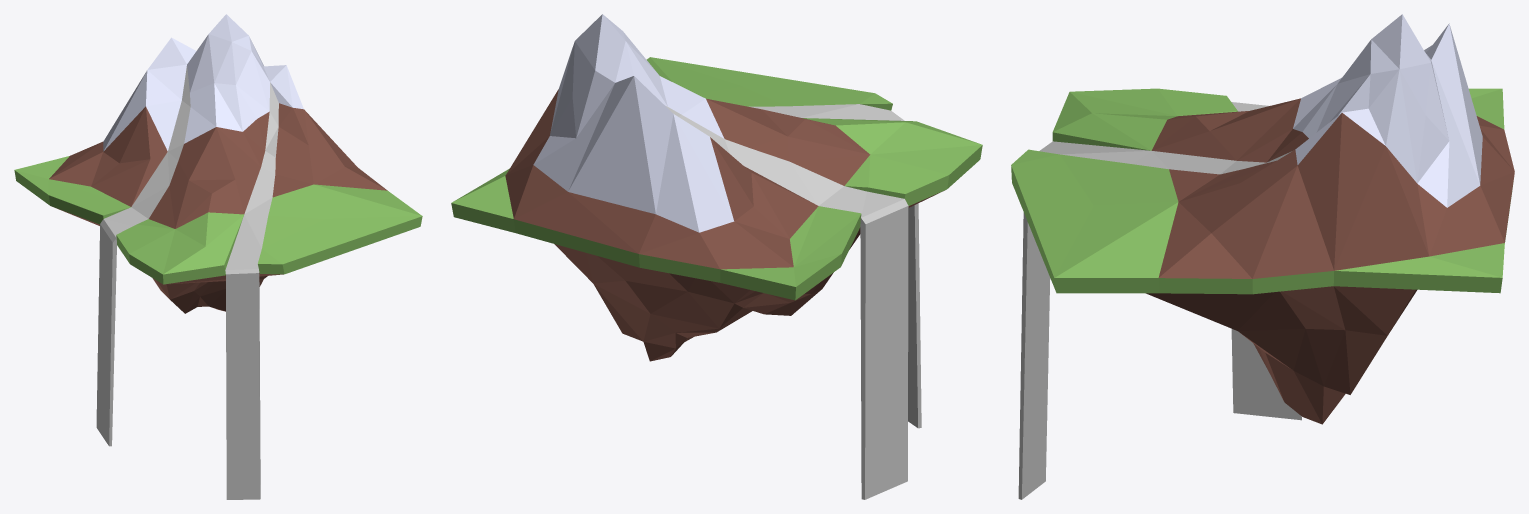
The model's file is Island14waterfall_tex.fbx.
3 renders of one model, left to right at view 1: azimuth 30°, elevation 25°; view 2: azimuth 150°, elevation 25°; view 3: azimuth 270°, elevation 25°, orthographic. The views are drawn at different scales.
Visible parts, largest first — view 1: Island14waterfall_tex, Island14waterfall_tex.001; view 2: Island14waterfall_tex, Island14waterfall_tex.001; view 3: Island14waterfall_tex, Island14waterfall_tex.001.
Part boxes in pixels (x1,y1,x2,y2): Island14waterfall_tex: [14, 14, 422, 313]; Island14waterfall_tex.001: [96, 66, 278, 499]; Island14waterfall_tex: [451, 14, 982, 361]; Island14waterfall_tex.001: [666, 104, 921, 499]; Island14waterfall_tex: [1011, 14, 1514, 424]; Island14waterfall_tex.001: [1018, 102, 1301, 499].
Size of the model in its own units: 4.74 by 6.43 by 5.3.
